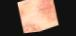plaque psoriasis: (32, 0, 59, 28), (21, 22, 40, 34), (17, 6, 27, 22)
